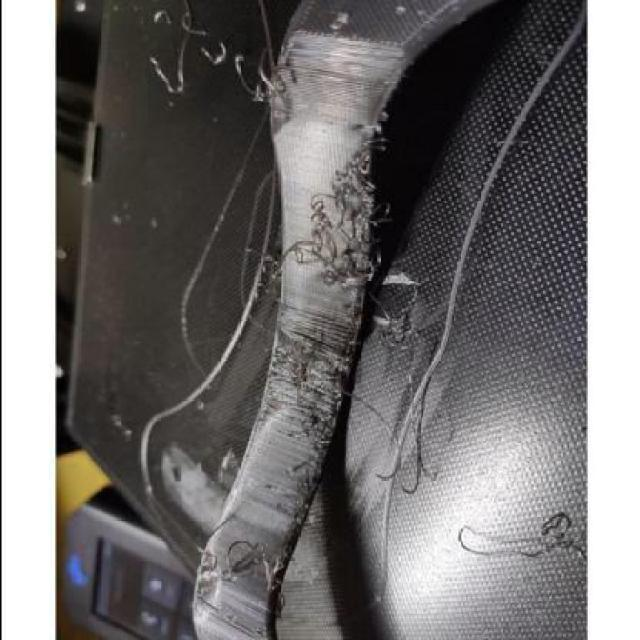spaghetti: (276, 125, 392, 290), (277, 313, 351, 441), (188, 532, 286, 594), (358, 282, 417, 348), (226, 47, 285, 104), (242, 241, 287, 297), (292, 470, 317, 528)
